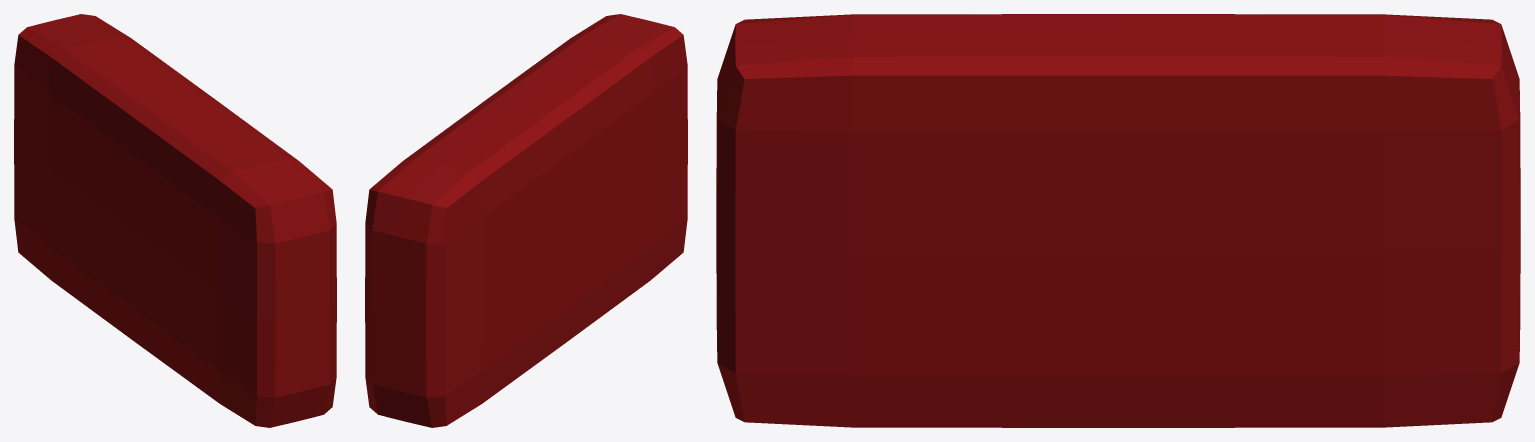
The model's file is red_big_sign.fbx.
3 renders of one model, left to right at view 1: azimuth 30°, elevation 25°; view 2: azimuth 150°, elevation 25°; view 3: azimuth 270°, elevation 25°, orthographic. The views are drawn at different scales.
Visible parts, largest first — view 1: Cube; view 2: Cube; view 3: Cube.
Boxes of the visible parts, x1,y1,x2,y2 form: Cube: (14,14,336,427); Cube: (365,14,687,427); Cube: (716,14,1520,427).
Bounding box in the file's own units: 258 × 675 × 1321.
